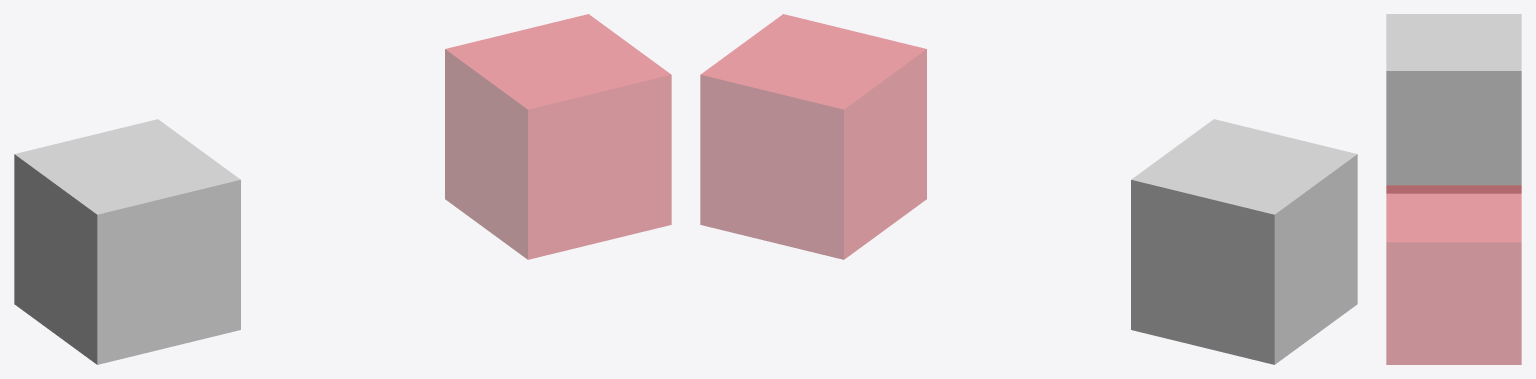
Rendered from appearance_split.glb.
3 views of the same model, side by side, from view 1: azimuth 30°, elevation 25°; view 2: azimuth 150°, elevation 25°; view 3: azimuth 270°, elevation 25° (orthographic). The views are drawn at different scales.
Size of the model in its own units: 40 by 10 by 10.
